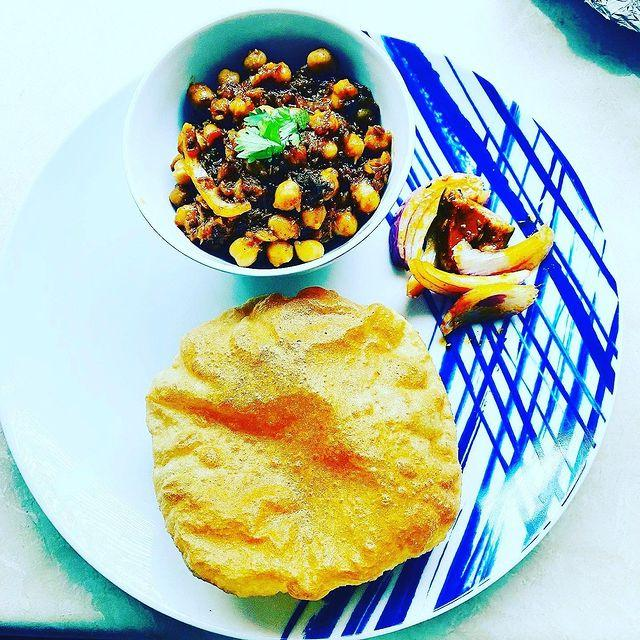Chole: (115, 28, 408, 281)
